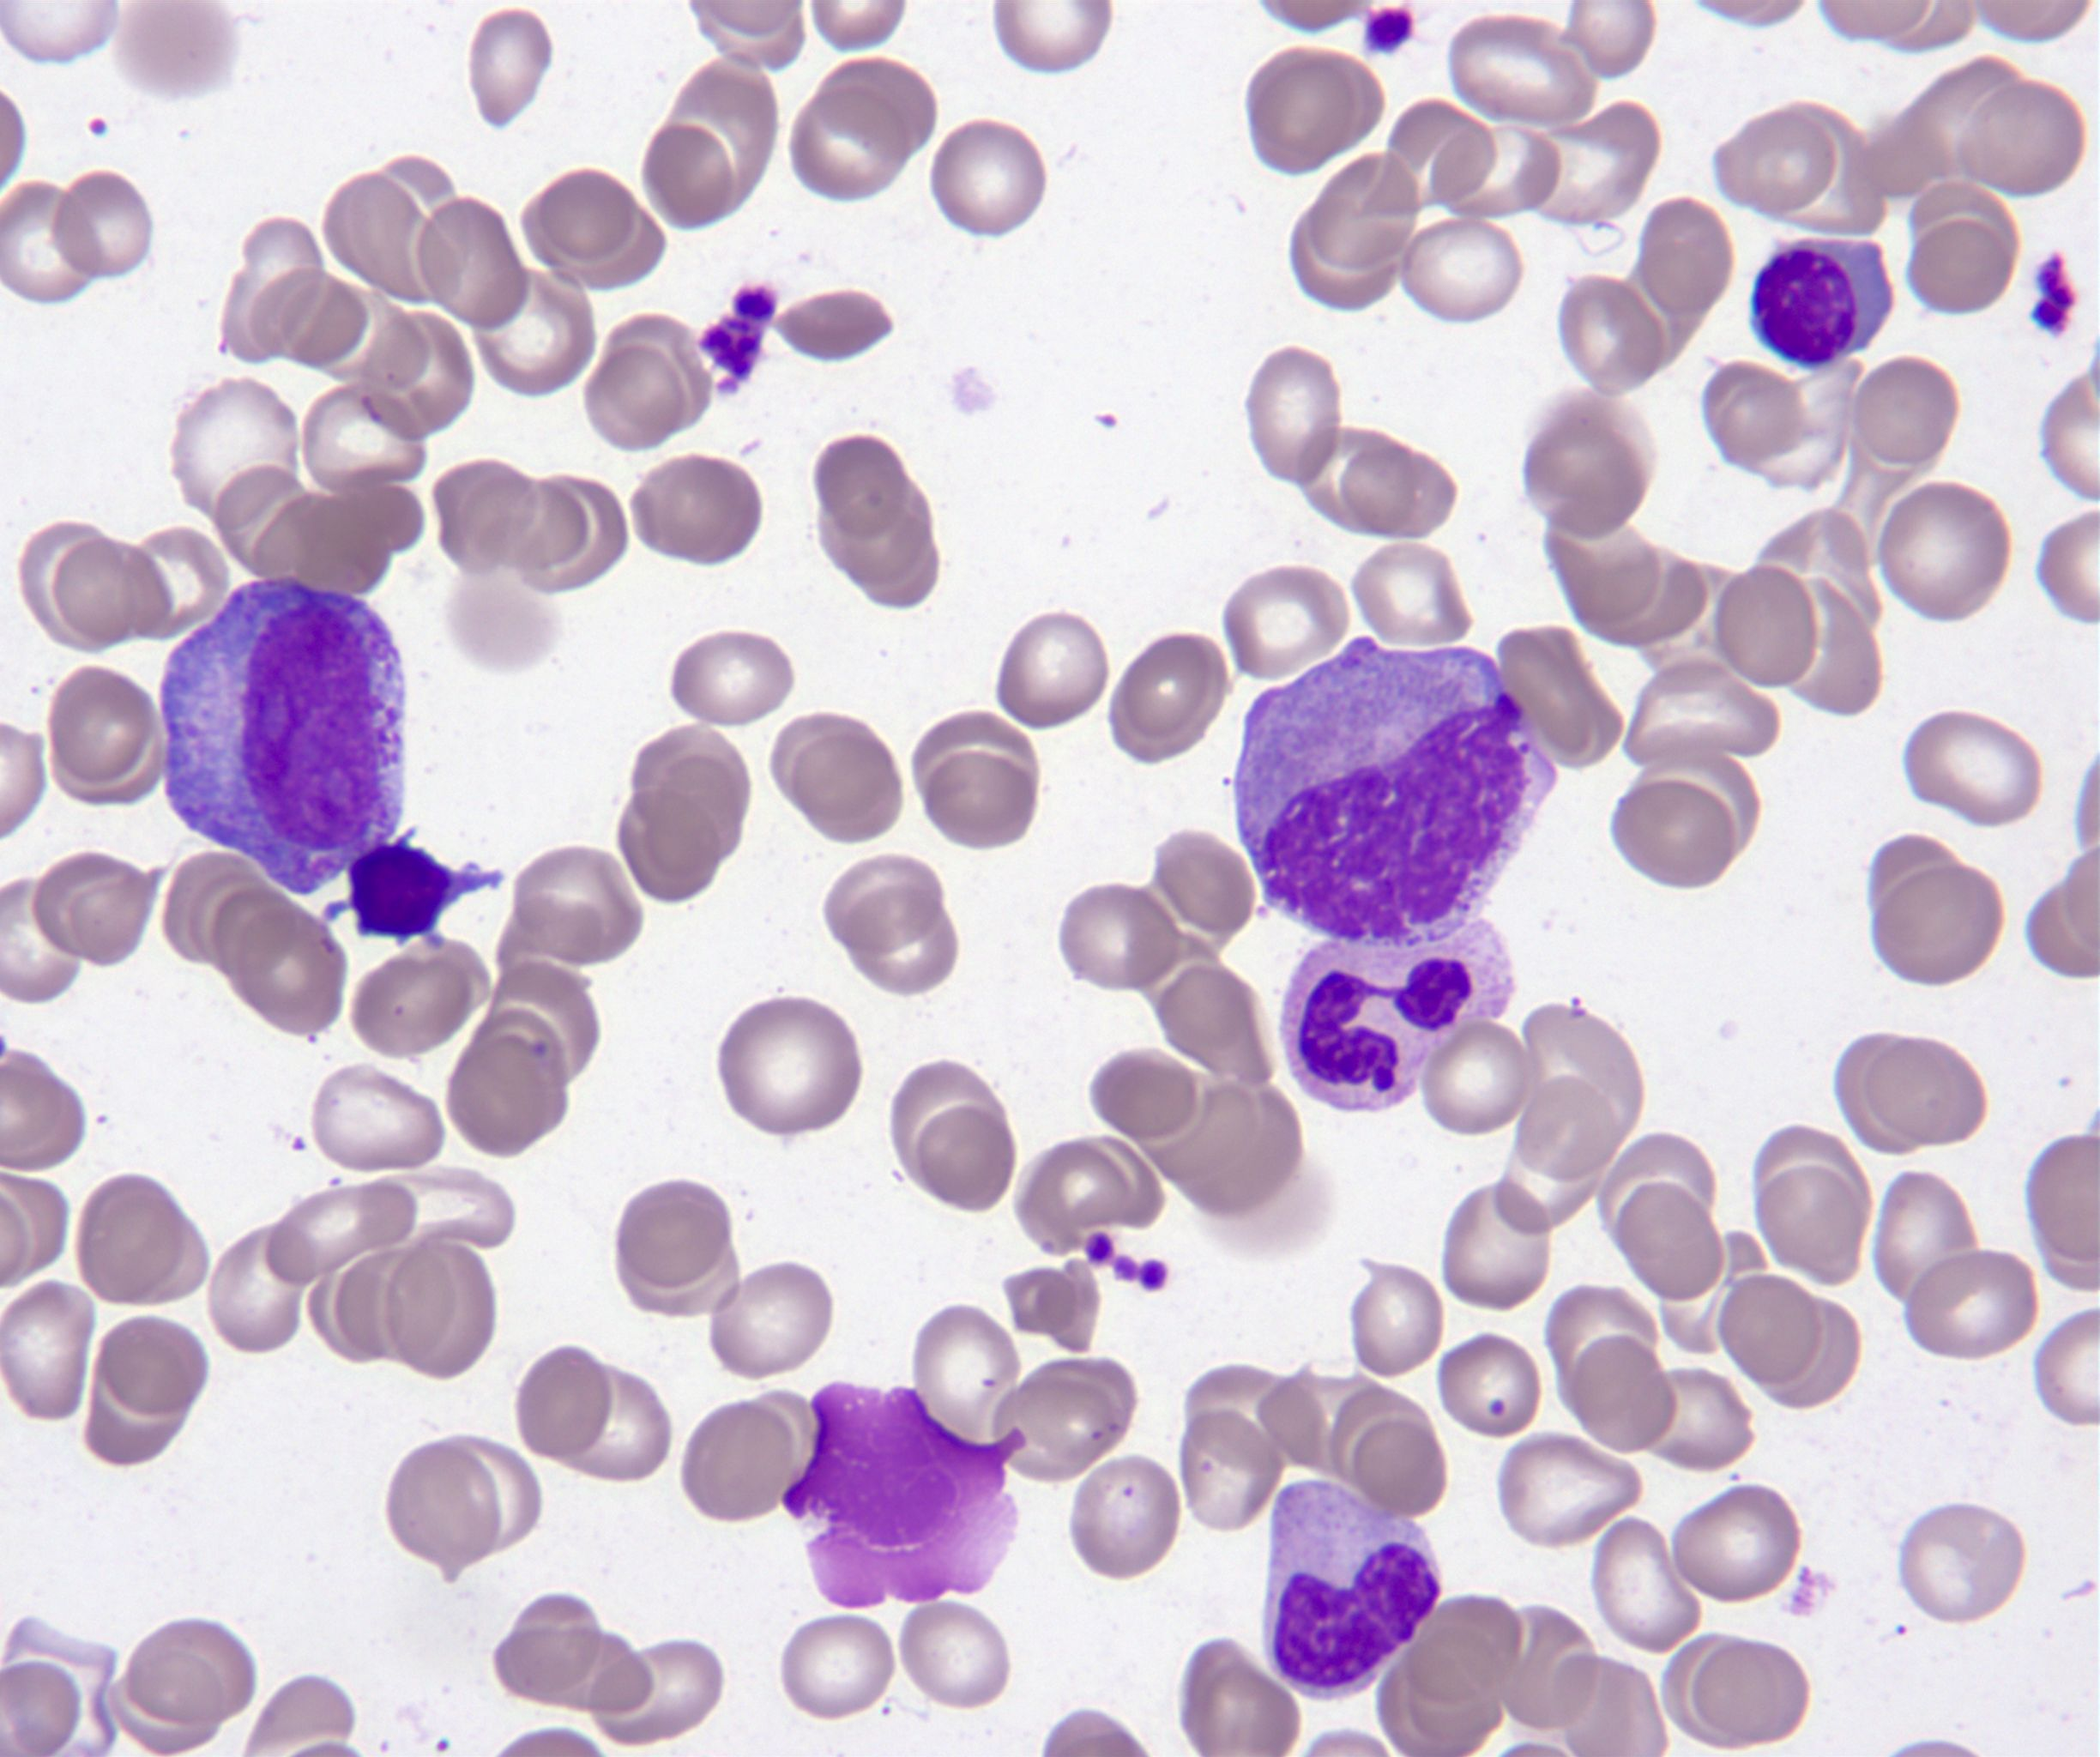2: (159, 581, 405, 893)
24: (1749, 241, 1892, 368)
3: (1235, 635, 1559, 946)
32: (345, 841, 504, 944)
4: (1263, 1483, 1441, 1701)
6: (1284, 918, 1512, 1115)
x: (785, 1384, 1026, 1607)
